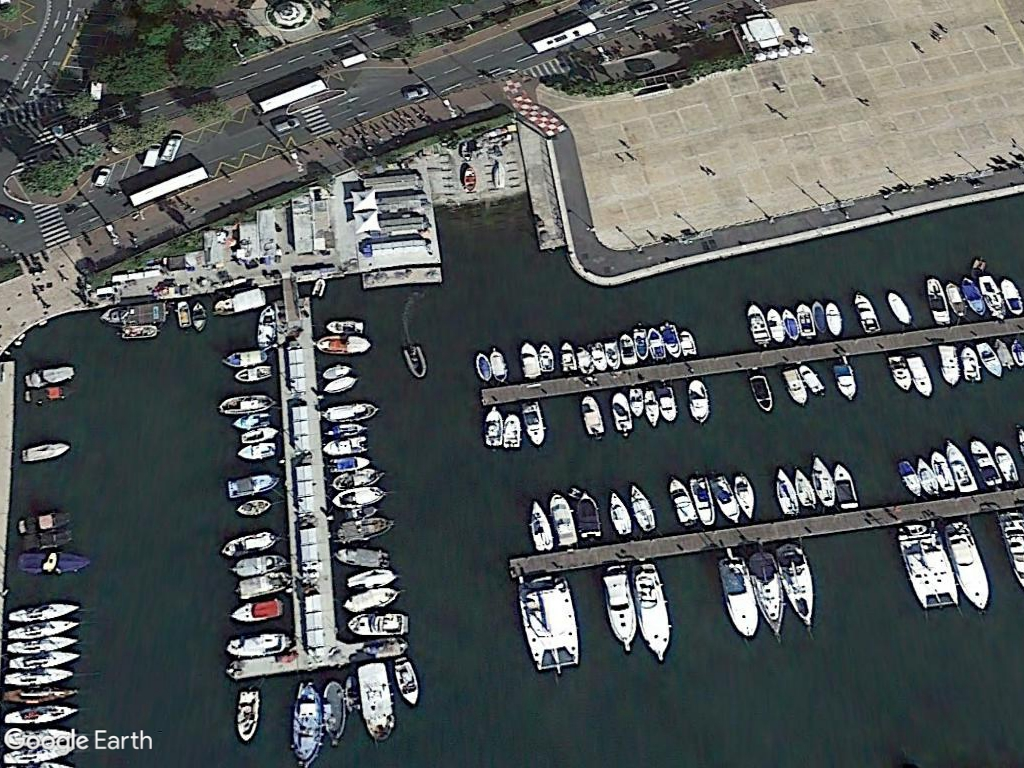boat: (941, 519, 991, 612), (715, 547, 760, 643), (774, 539, 819, 633), (354, 660, 398, 743), (601, 562, 639, 657), (291, 678, 324, 768), (15, 547, 96, 576), (342, 609, 416, 638), (548, 487, 580, 552), (220, 526, 279, 560), (225, 629, 294, 658), (574, 391, 610, 444), (663, 475, 698, 529), (7, 601, 87, 624), (226, 597, 291, 624), (234, 685, 263, 745), (832, 456, 862, 513), (741, 297, 774, 348), (225, 471, 283, 500), (847, 288, 881, 336), (315, 332, 378, 357), (684, 375, 713, 429), (519, 396, 548, 450), (923, 274, 952, 327), (214, 393, 281, 415), (17, 441, 74, 465), (321, 402, 386, 423), (219, 347, 274, 368), (516, 339, 542, 381)
bus: (127, 162, 209, 208)
